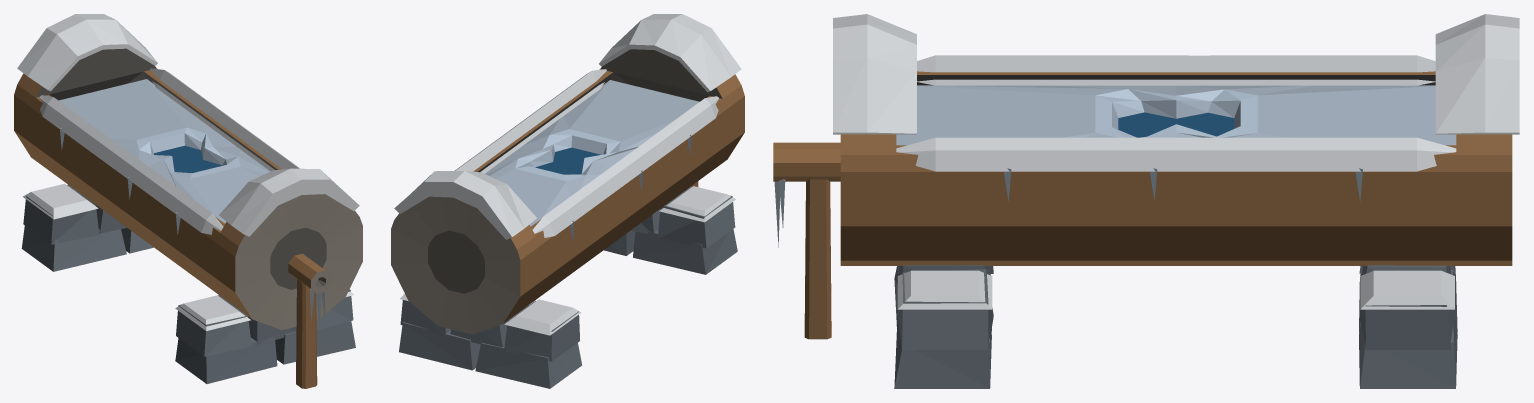
Rendered from stage3_frozen_water_trough.glb.
The picture shows the model from 3 angles, left to right: view 1: azimuth 30°, elevation 25°; view 2: azimuth 150°, elevation 25°; view 3: azimuth 270°, elevation 25°; orthographic projection. The views are drawn at different scales.
Parts seen in each view (by area): view 1: trough; view 2: trough; view 3: trough.
Part boxes in pixels (x1=…): trough: x1=14, y1=14, x2=362, y2=388; trough: x1=391, y1=14, x2=744, y2=388; trough: x1=773, y1=14, x2=1519, y2=388.
Size of the model in its own units: 0.7 by 0.9146 by 2.
